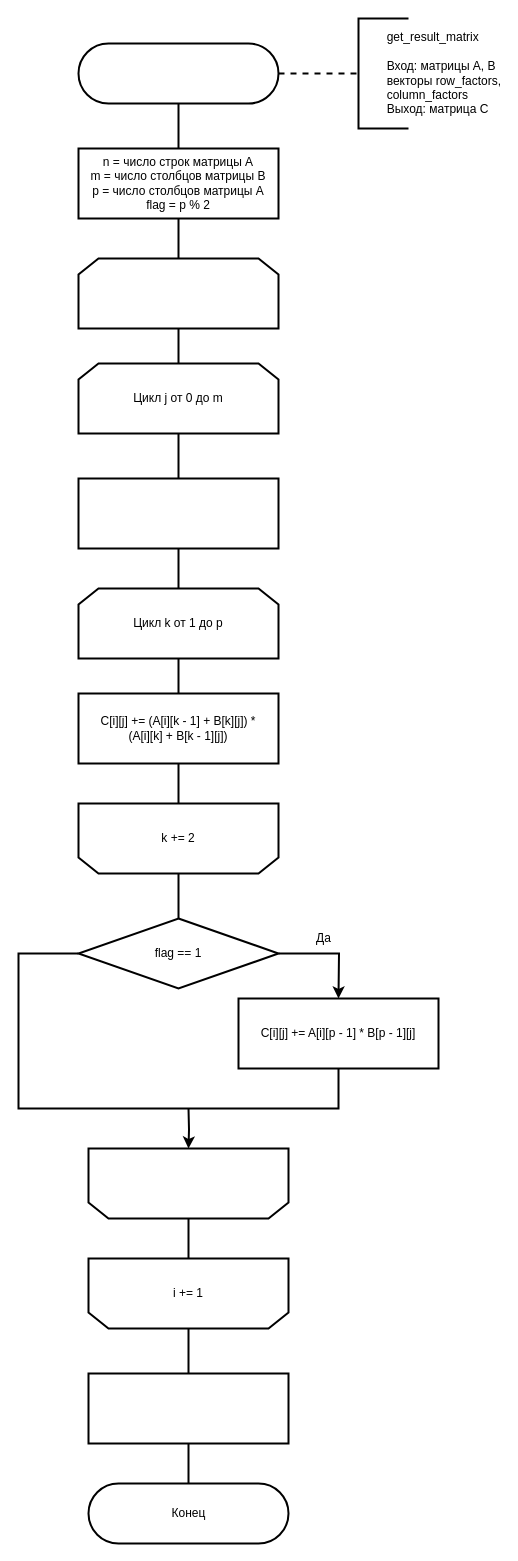
Some shapes in this 518 by 1561 pixel diagram are drawn without their labels. The box of each missing label's shape, as (x1, y1, x2, y2) in pixels:
j += 1: (87, 1147, 289, 1219)
Вернуть С: (87, 1372, 289, 1444)
Начало: (77, 42, 279, 104)
С[i][j] = -(row_factors[i] + column_factors[j]): (77, 477, 279, 549)
Цикл i от 0 до n: (77, 257, 279, 329)
